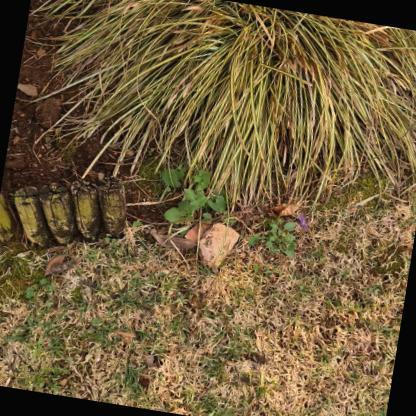Weeds: (152, 164, 232, 242), (246, 214, 301, 258)
